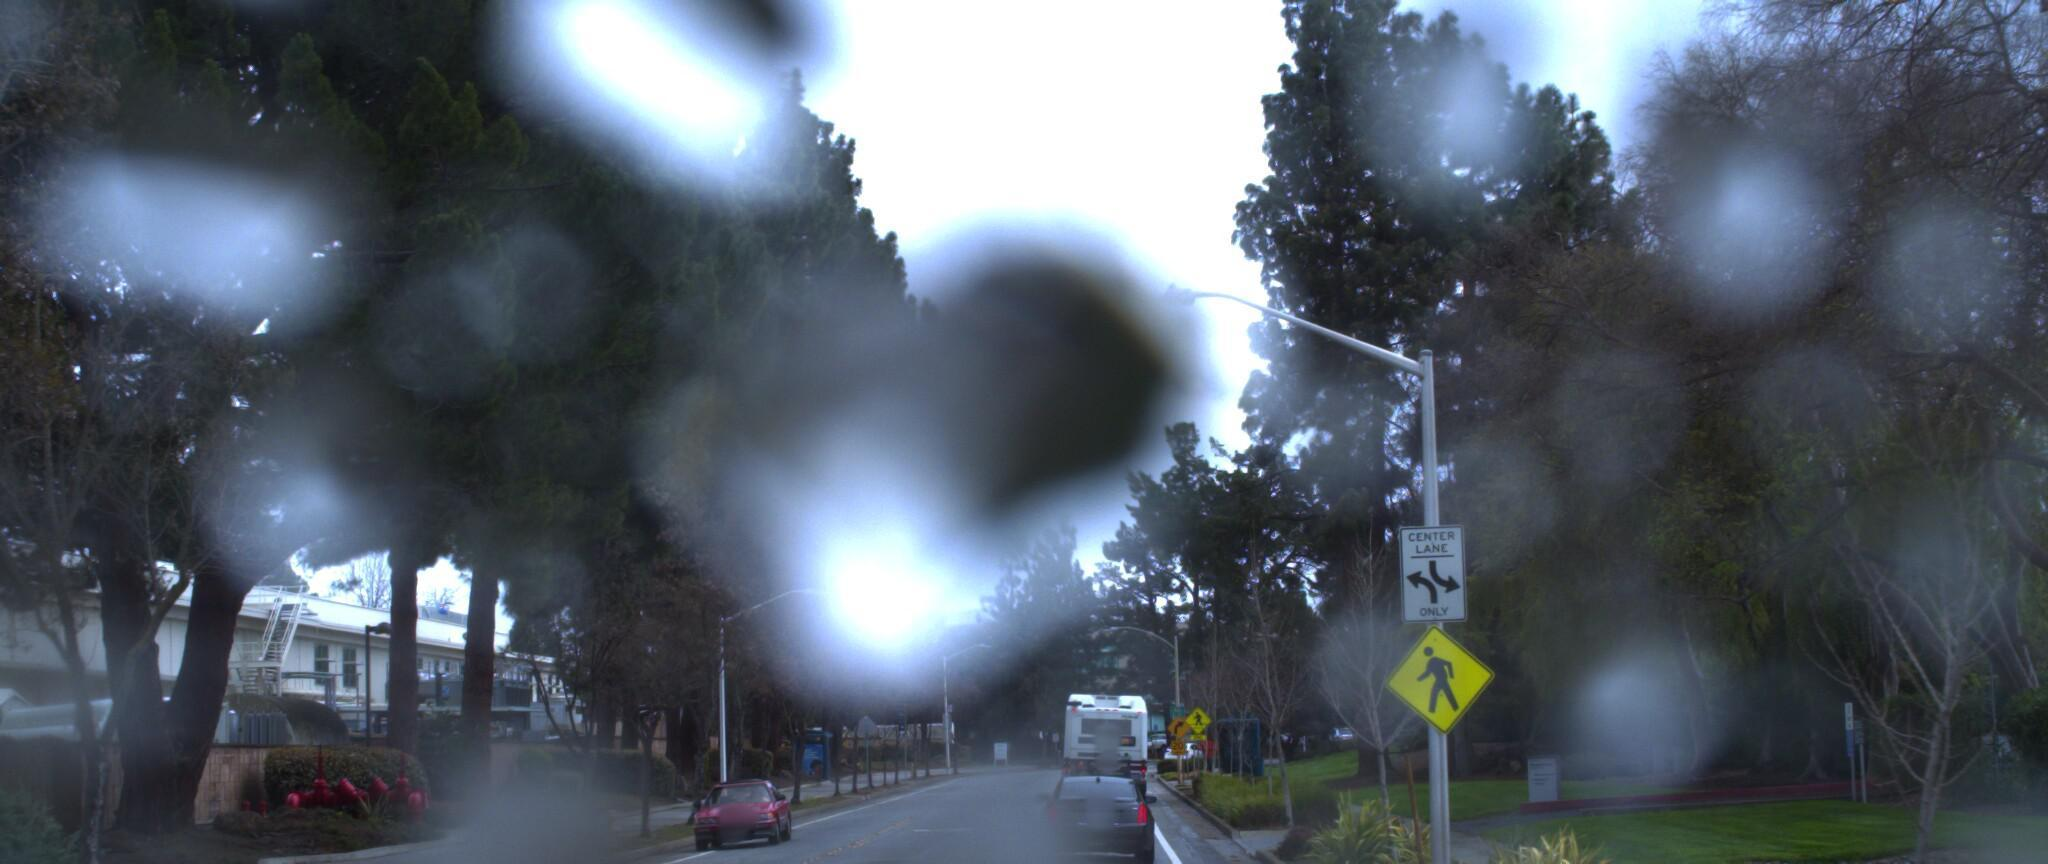car: (1029, 767, 1153, 864), (678, 764, 793, 839)
